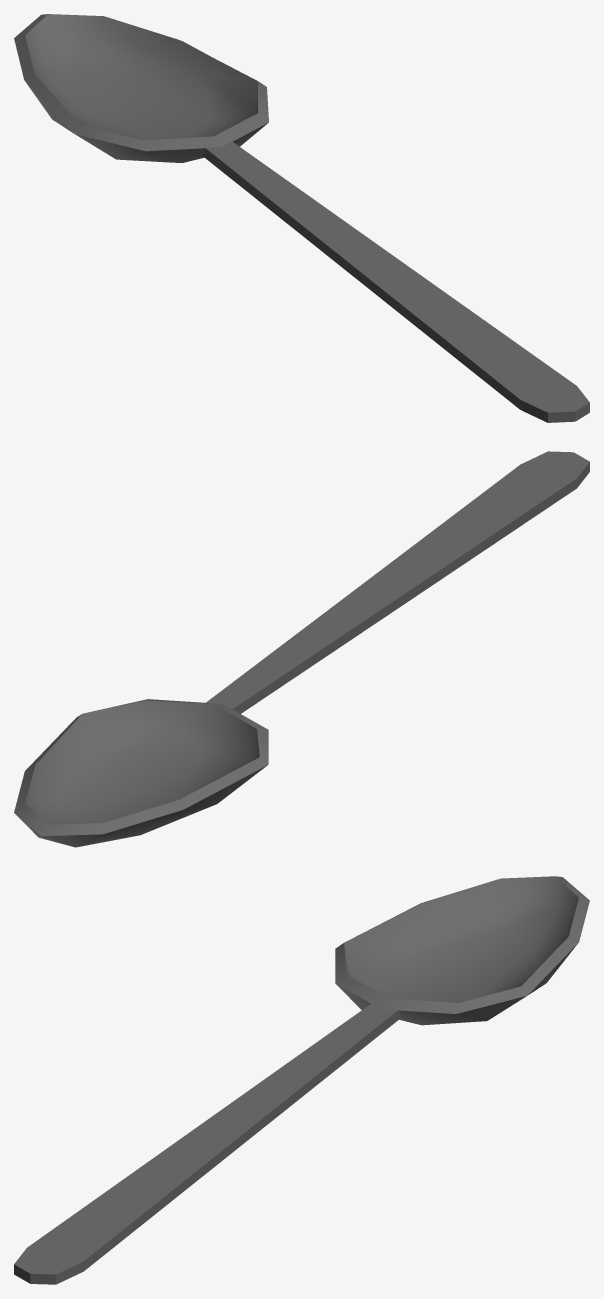
The model's file is Spoon.glb.
3 renders of one model, top to bottom at view 1: azimuth 30°, elevation 25°; view 2: azimuth 150°, elevation 25°; view 3: azimuth 330°, elevation 25°, orthographic.
Parts seen in each view (by area): view 1: Spoon; view 2: Spoon; view 3: Spoon.
Part boxes in pixels (x1=…): Spoon: x1=14, y1=14, x2=589, y2=422; Spoon: x1=14, y1=451, x2=589, y2=847; Spoon: x1=14, y1=876, x2=589, y2=1284.
Bounding box in the file's own units: 0.0413 × 0.00878 × 0.1982.
1 material, 1 textured.
